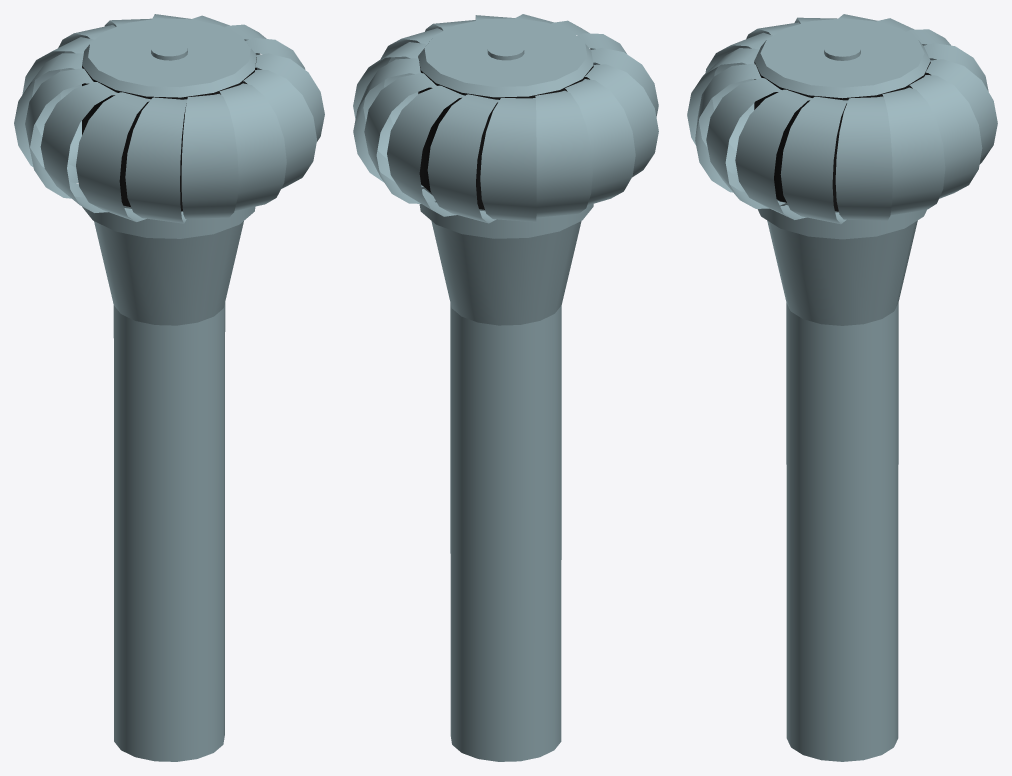
File: chimenea_2.fbx
3 views of the same model, side by side, from view 1: azimuth 30°, elevation 25°; view 2: azimuth 150°, elevation 25°; view 3: azimuth 270°, elevation 25° (orthographic).
Parts seen in each view (by area): view 1: chimenea_2, Torus; view 2: chimenea_2, Torus; view 3: chimenea_2, Torus.
Part boxes in pixels (<box>): chimenea_2: <box>82,18,256,761</box>; Torus: <box>14,14,324,223</box>; chimenea_2: <box>418,18,593,761</box>; Torus: <box>353,14,658,223</box>; chimenea_2: <box>754,18,930,761</box>; Torus: <box>687,14,997,224</box>.
Bounding box in the file's own units: 49.33 × 121 × 49.33.
